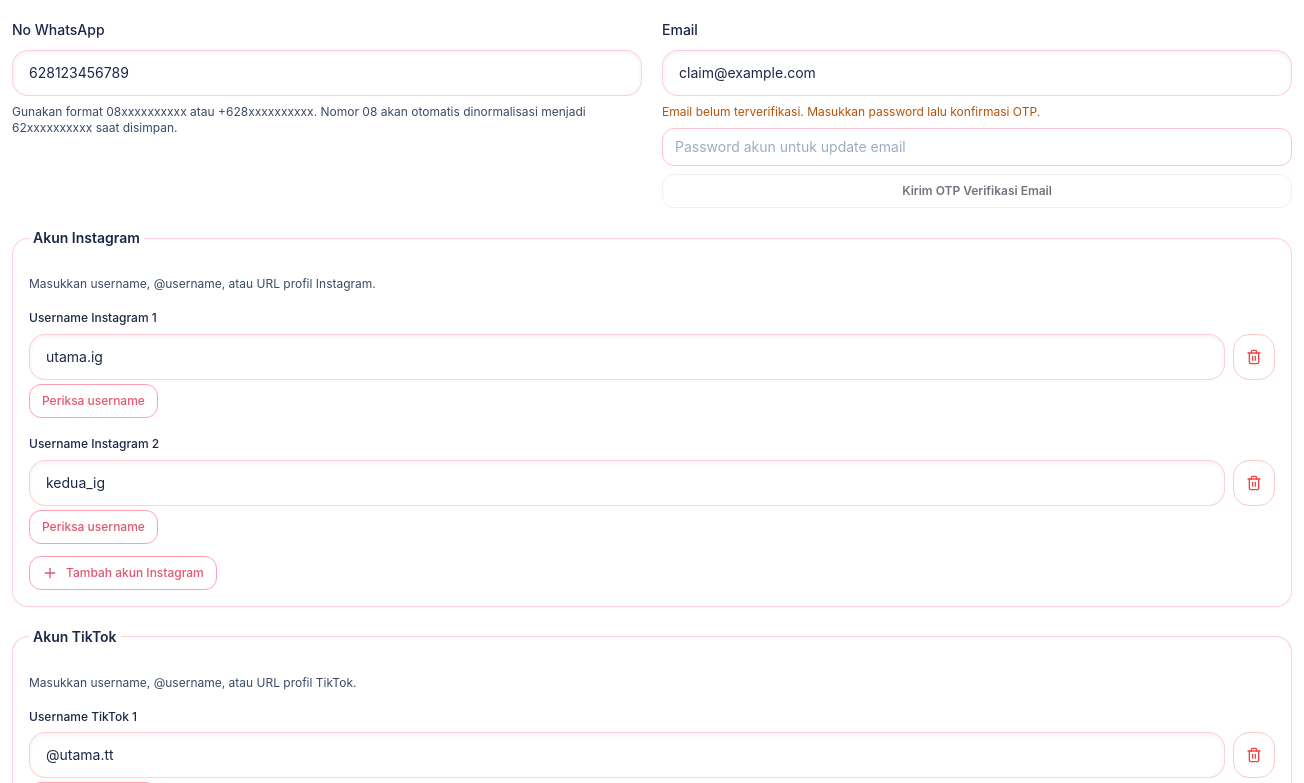
Test: EditUserPage › mereset hasil validasi ketika input berubah
The image size is (1304, 783).
(page scrolled)
Check: the field showing "utama.ig" is shown, box [29, 334, 1225, 380]
Click the 1st button "Periksa username" at (93, 401), box [29, 384, 158, 418]
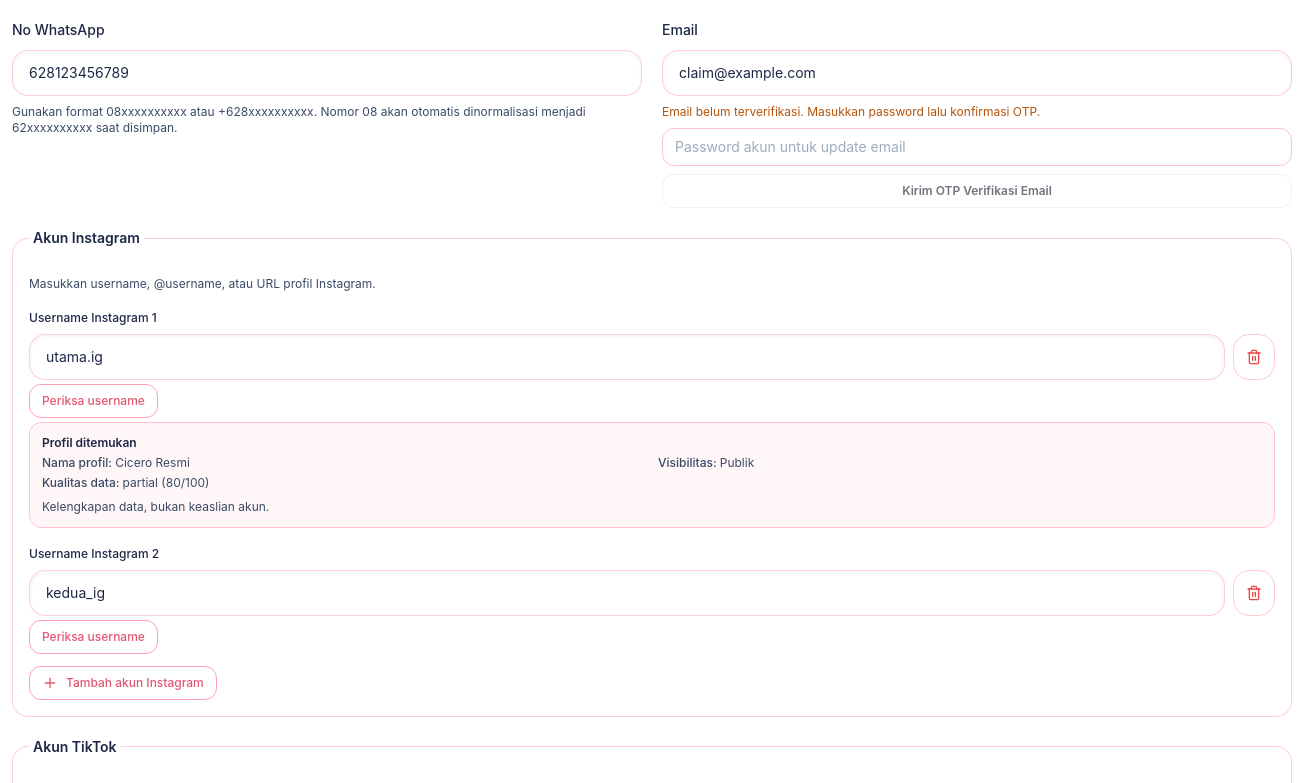
Check: the text "Profil ditemukan" is shown, box [42, 435, 137, 450]
Replace the text in the field labelled "Username Instagram 1" with "username.baru" at (627, 357), box [29, 334, 1225, 380]
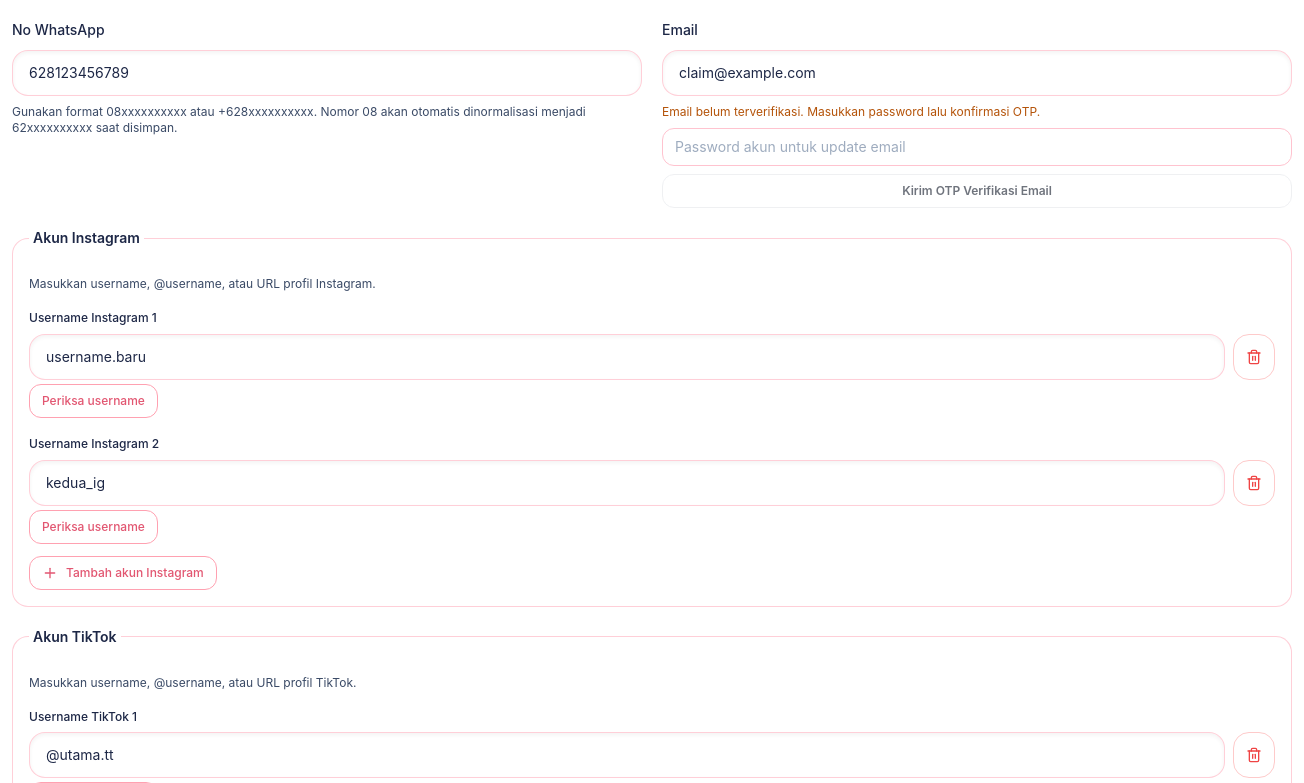
Check: the text "Profil ditemukan" is gone
